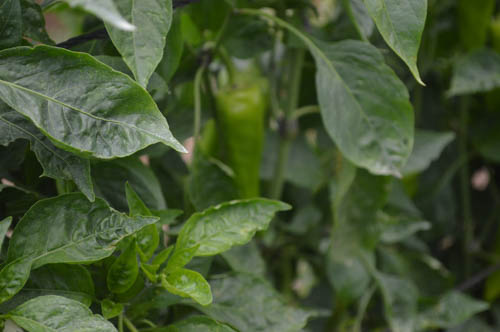ChiliPepper: (217, 85, 272, 208)
